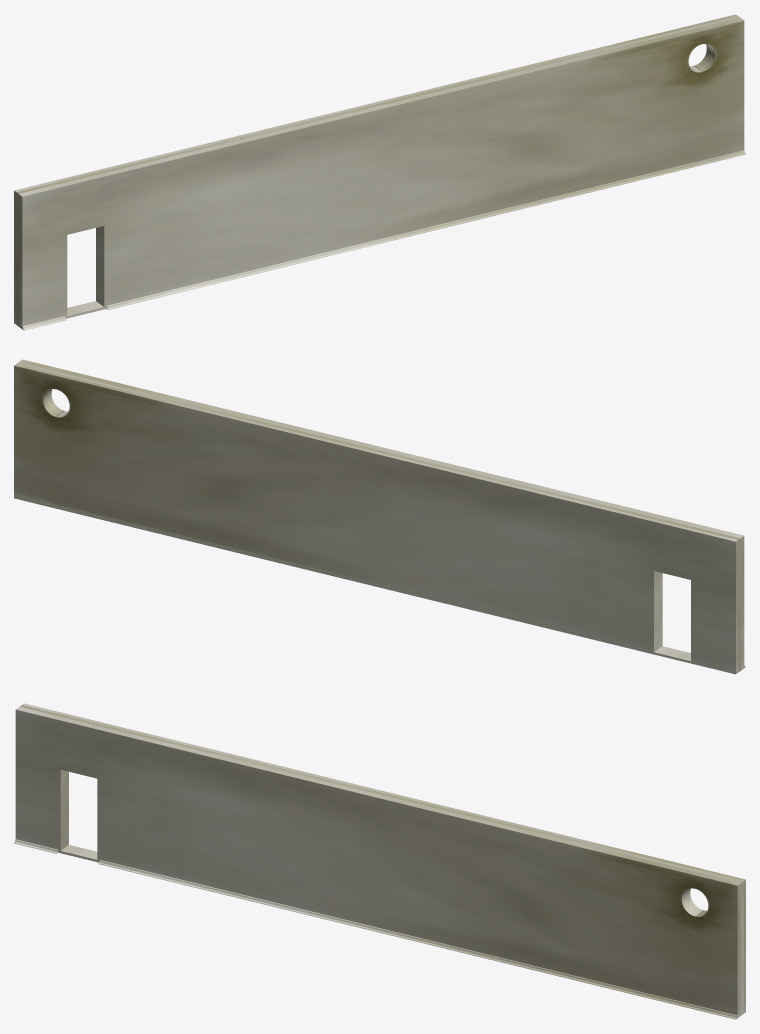
File: WestWall.fbx
3 renders of one model, top to bottom at view 1: azimuth 30°, elevation 25°; view 2: azimuth 150°, elevation 25°; view 3: azimuth 330°, elevation 25°, orthographic.
Parts seen in each view (by area): view 1: Export Wall 1; view 2: Export Wall 1; view 3: Export Wall 1.
Part boxes in pixels (left/top/right/bottom): Export Wall 1: left=14, top=14, right=745, bottom=330; Export Wall 1: left=14, top=359, right=745, bottom=674; Export Wall 1: left=14, top=703, right=745, bottom=1019.
Size of the model in its own units: 2000 by 351 by 48.39.
